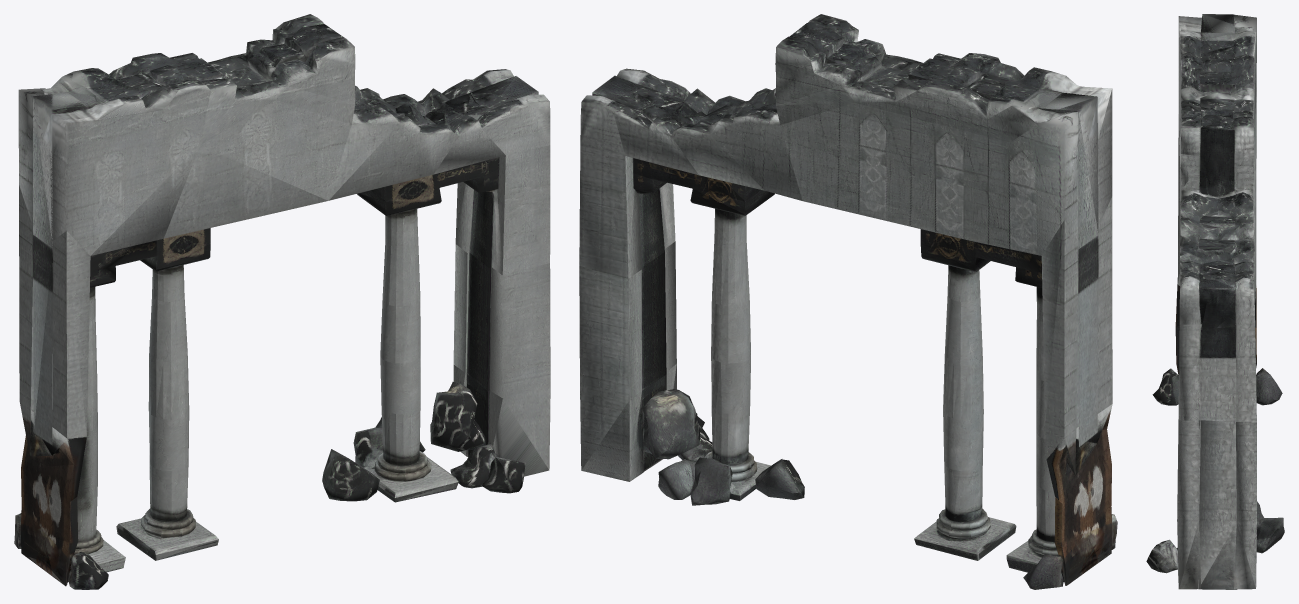
Rendered from ruin-arch.glb.
The picture shows the model from 3 angles, left to right: view 1: azimuth 30°, elevation 25°; view 2: azimuth 150°, elevation 25°; view 3: azimuth 270°, elevation 25°; orthographic projection. The views are drawn at different scales.
Size of the model in its own units: 1 by 0.9331 by 0.3021.
1 material, 1 textured.
